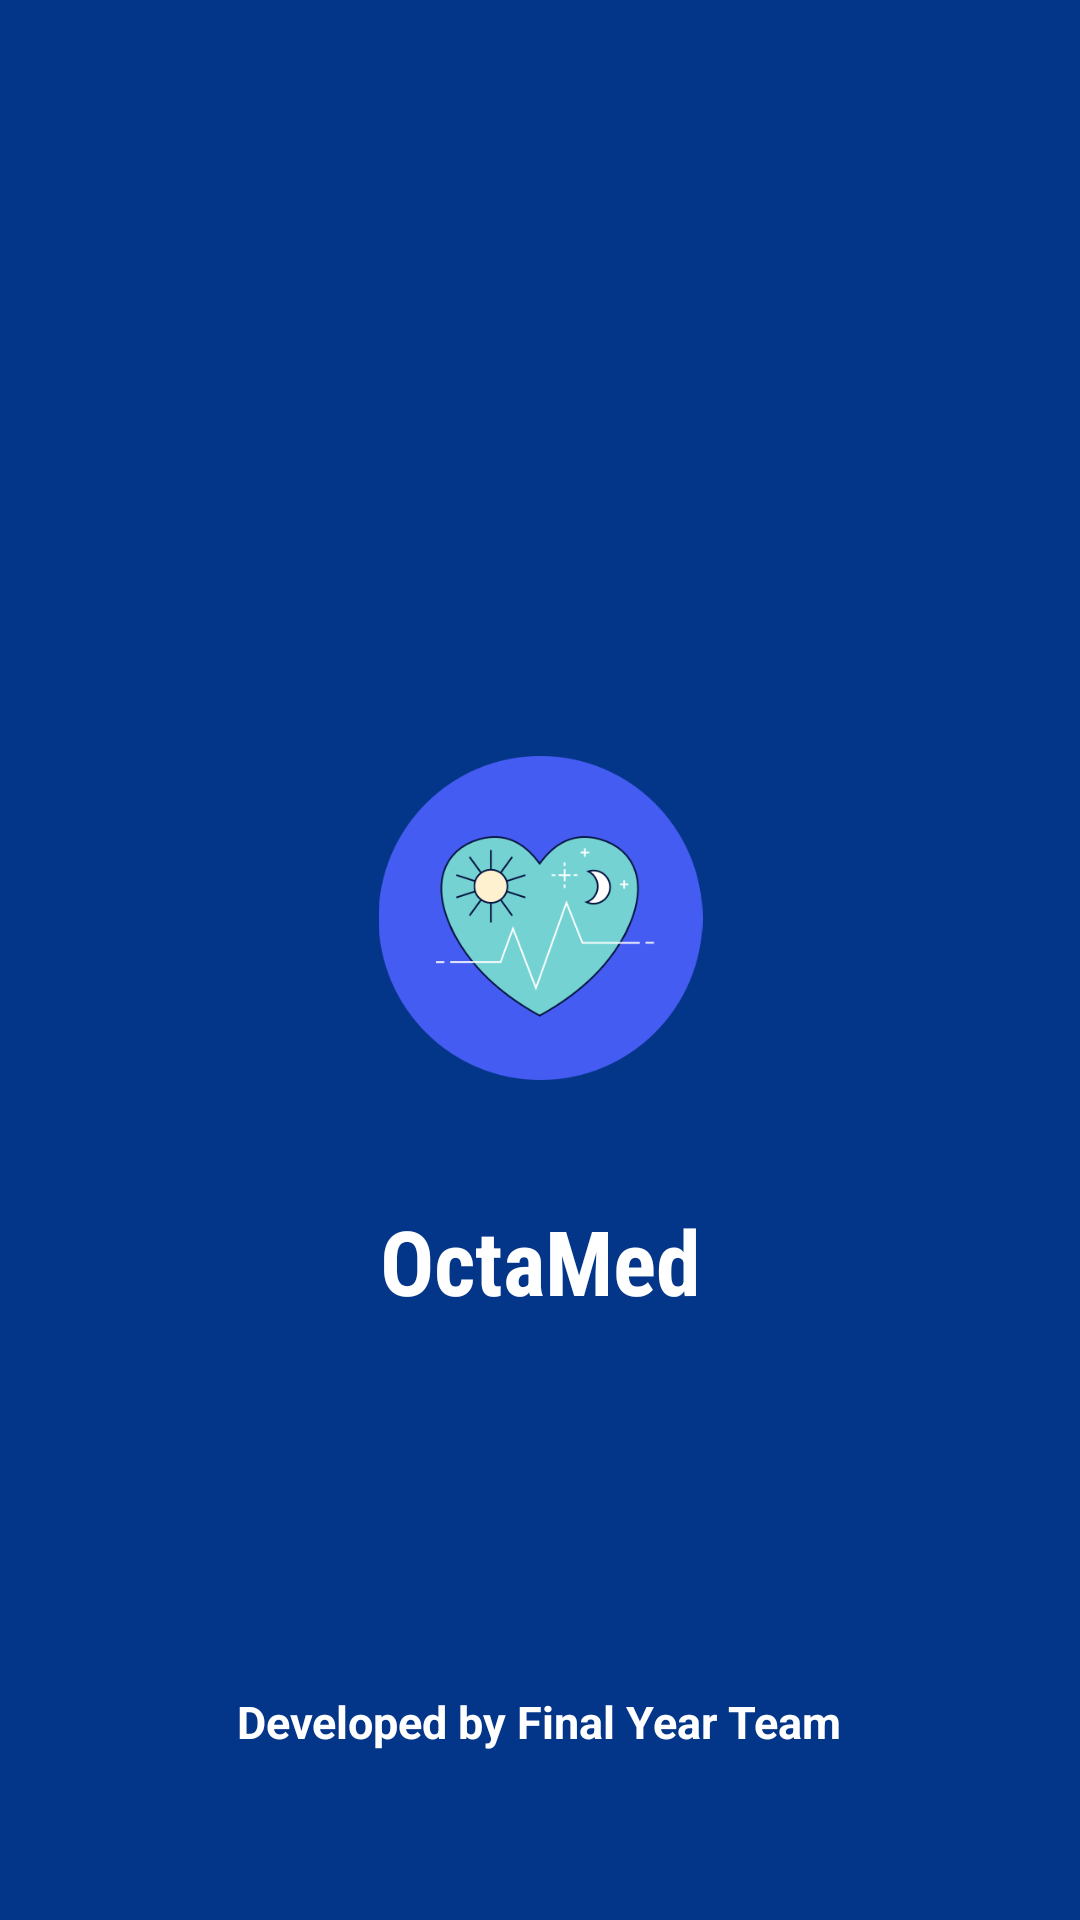

Icon click points for this 1080px x 1920px phone screenshot, format point (x, y):
heart: point (541, 918)
